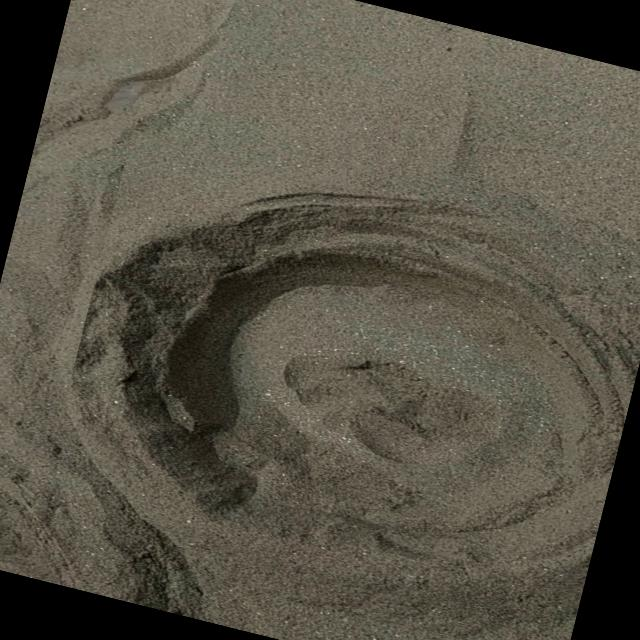C20: (71, 194, 614, 630)
